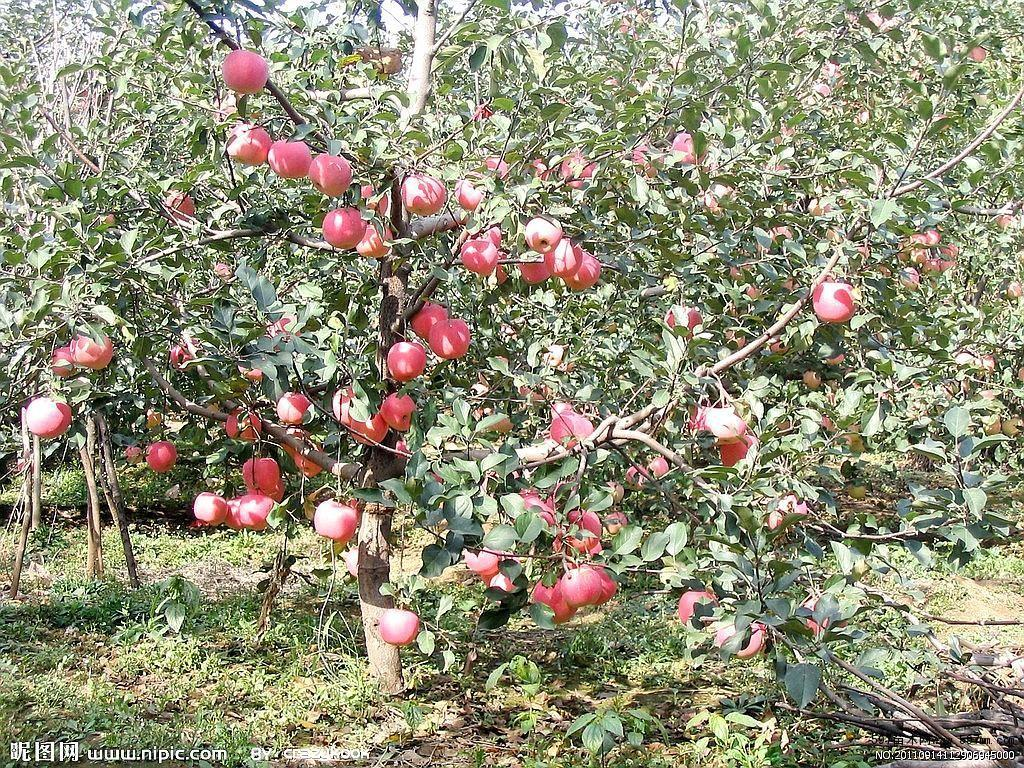apple: (219, 48, 269, 94), (399, 175, 446, 216), (533, 577, 577, 620), (27, 396, 72, 438), (673, 223, 719, 264), (225, 125, 271, 166), (267, 138, 313, 179), (307, 151, 350, 194), (314, 500, 358, 542), (812, 282, 856, 323), (322, 208, 365, 247), (385, 339, 428, 378), (560, 566, 603, 605), (379, 607, 418, 646), (431, 321, 469, 358), (237, 495, 274, 533), (460, 239, 499, 275), (526, 215, 561, 255), (73, 335, 112, 370), (547, 238, 581, 276), (276, 392, 311, 426), (383, 394, 414, 430), (145, 439, 176, 472), (194, 493, 226, 524)
